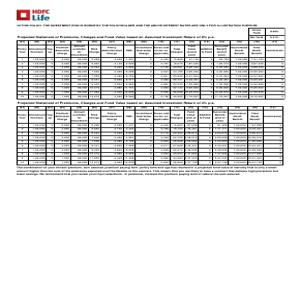image: (15, 7, 52, 21)
table: (18, 28, 285, 99), (16, 106, 284, 166)
text: (17, 169, 280, 176), (16, 100, 219, 105), (17, 23, 261, 27), (19, 167, 278, 169)
